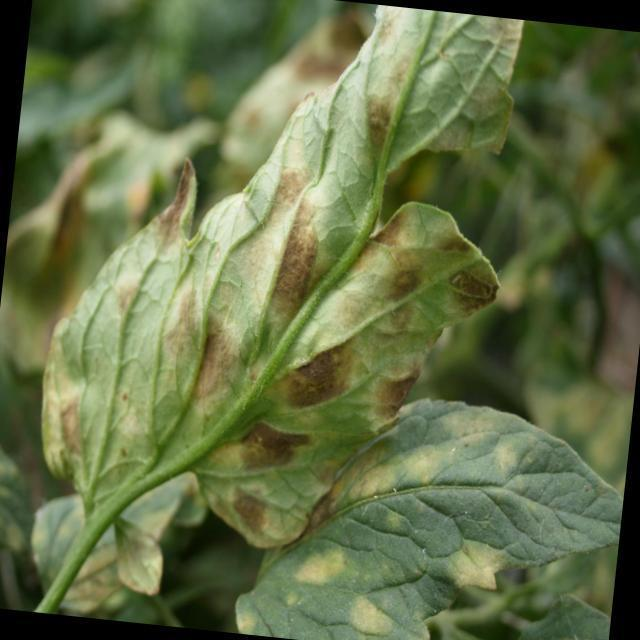Mosaic Virus: (26, 0, 532, 569), (233, 387, 630, 640)
